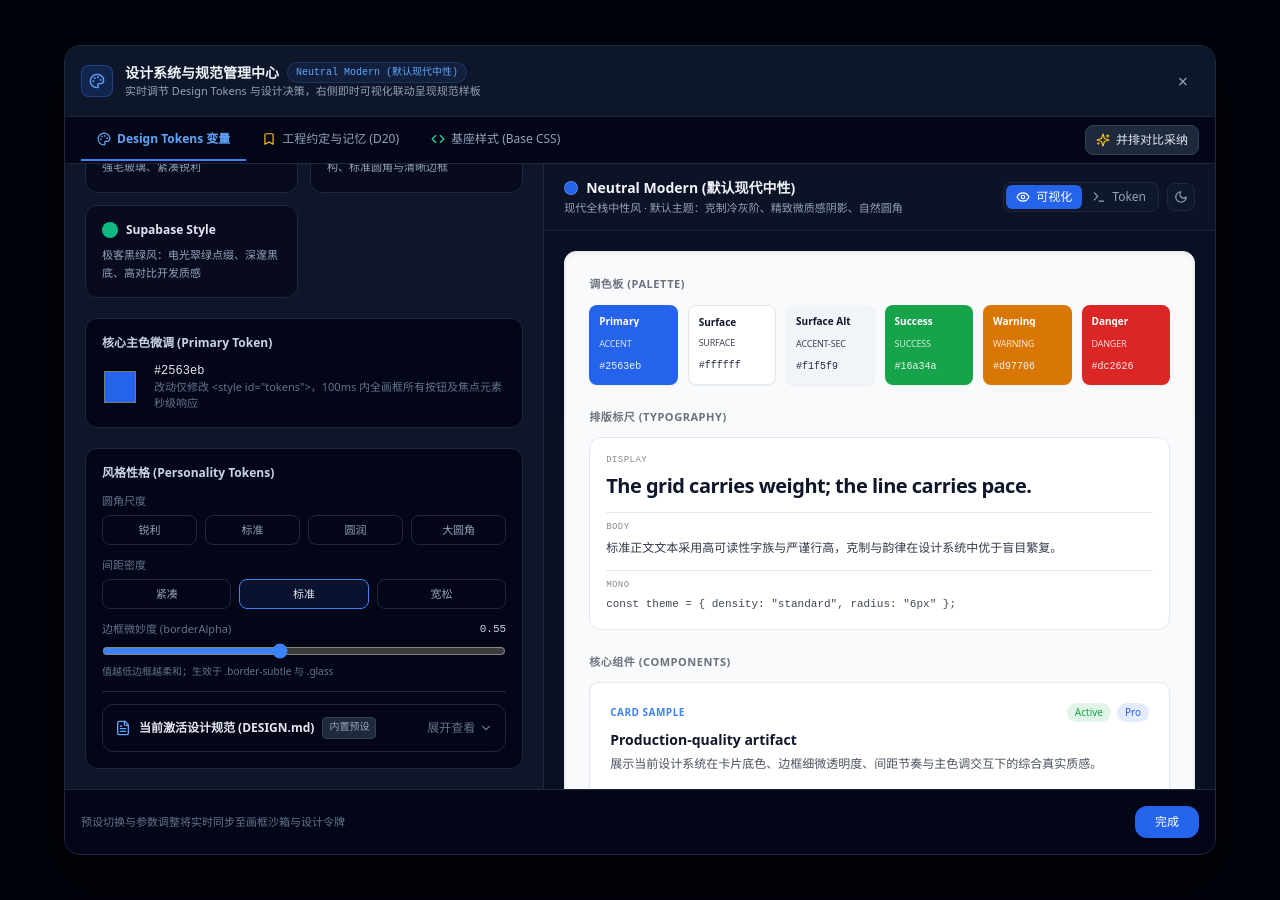
Test: OpenDesign UI/UX Specifications (§5 / CHK-OD-21~23) › CHK-OD-23: ThemeEditor displays collapsible DESIGN.md card with source badge
The width and height of the screenshot is (1280, 900).
(page scrolled)
Click the button "当前激活设计规范 (DESIGN.md) 内置预设 展开查看": (304, 728) [103,705,505,751]
(page scrolled)
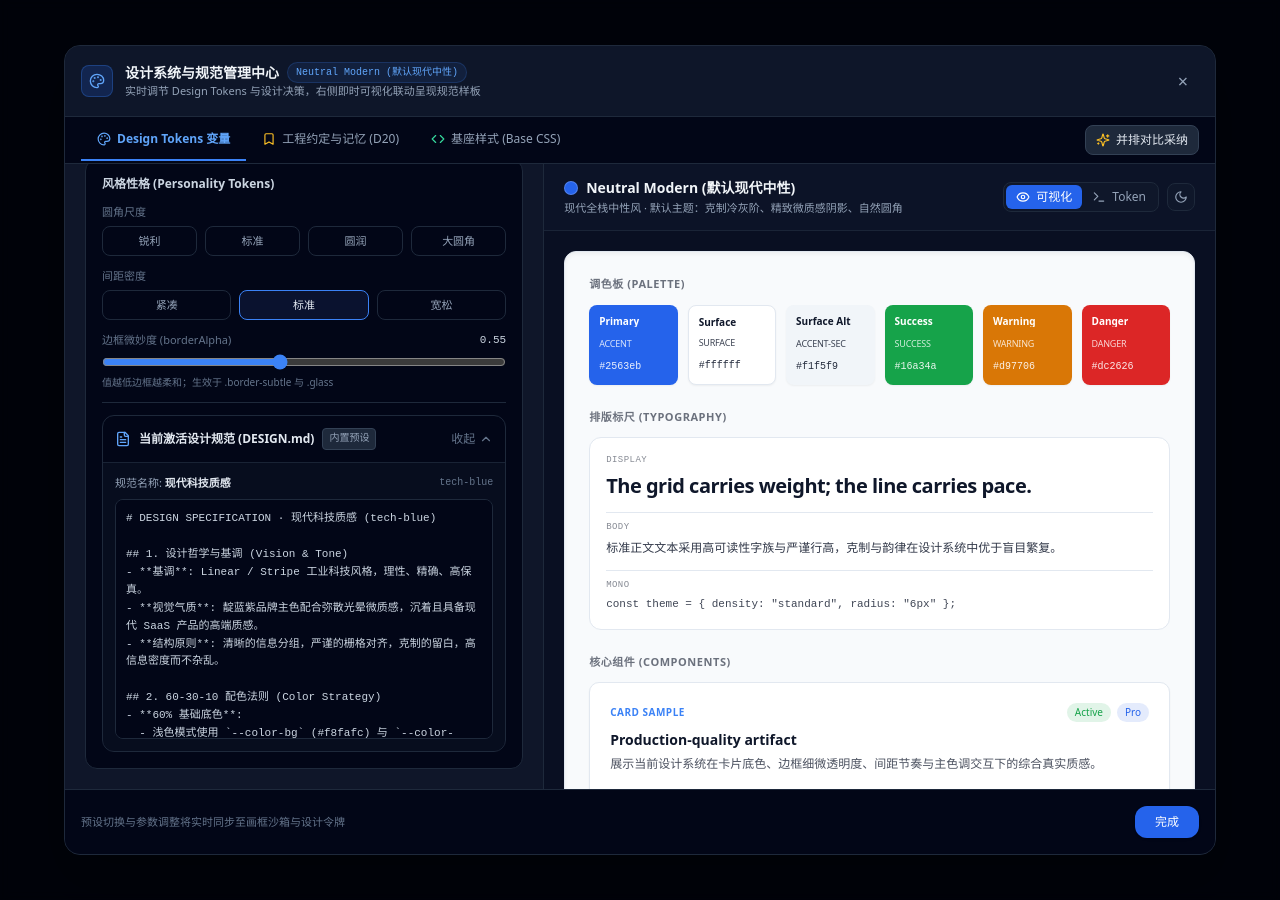
Result: the text "规范名称:" is shown at [115,475,165,490]
